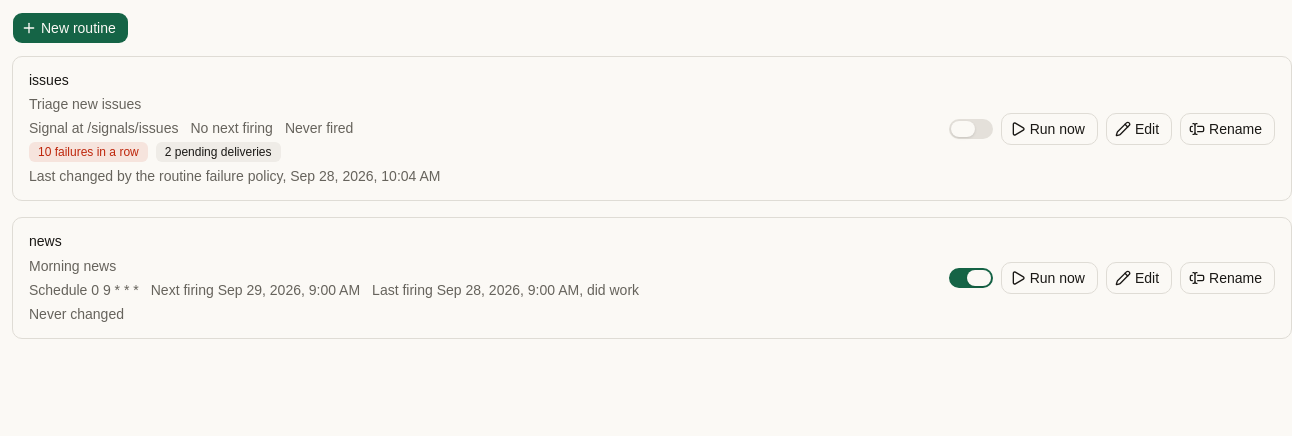
Test case: RoutinesSection › says the instance refused a run while a user turn runs
The width and height of the screenshot is (1292, 436).
Step 1. Click the button "Run now" in the row of "Morning news" → (1049, 278), box [1001,262,1098,294]
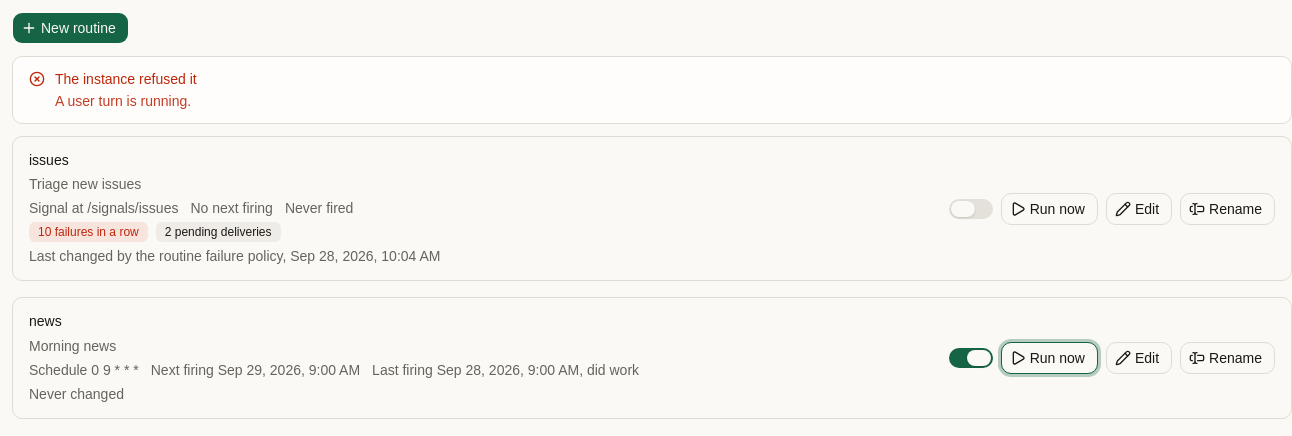
Check: the message shows "The instance refused it", box [55,71,197,87]
Check: the message shows "A user turn is running.", box [55,93,191,109]
